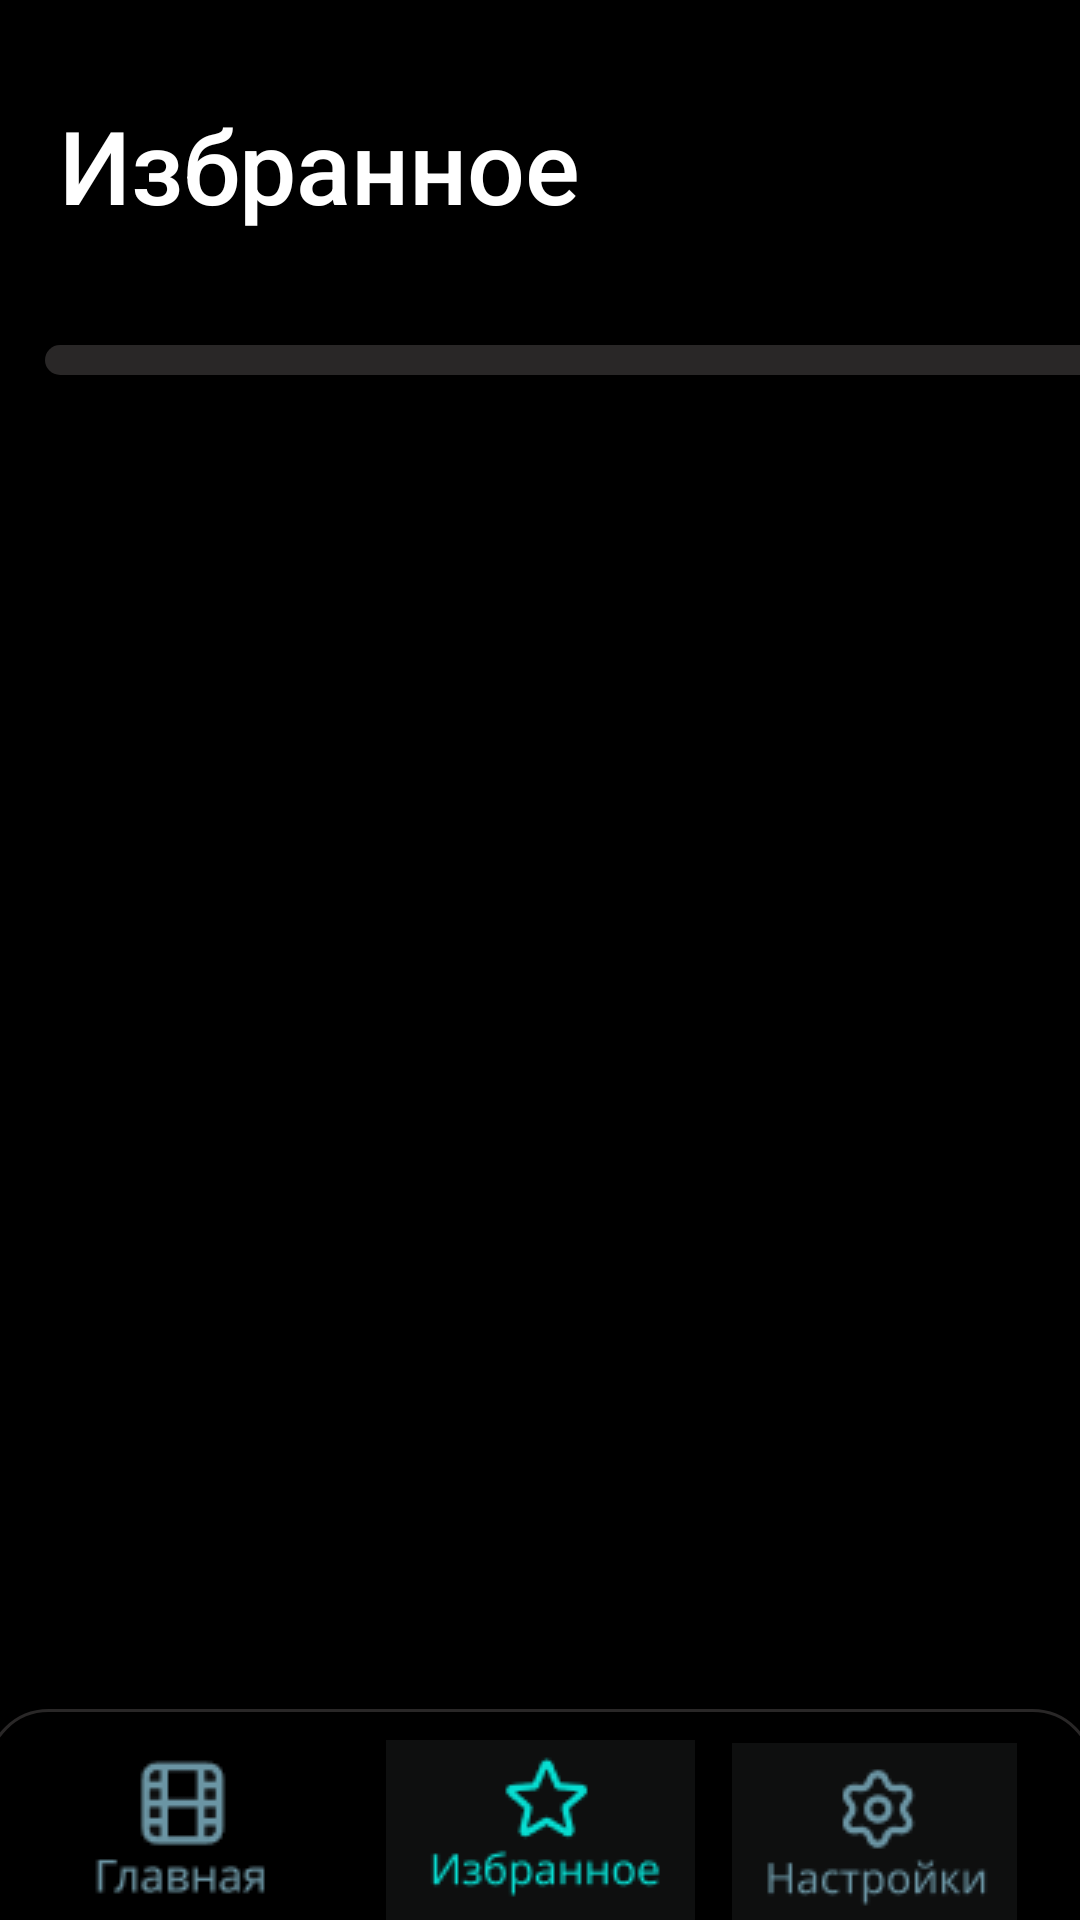

Screen size 1080*1920. Icon name, then its center in pixels as (x,y):
topyes: (540,1830)
